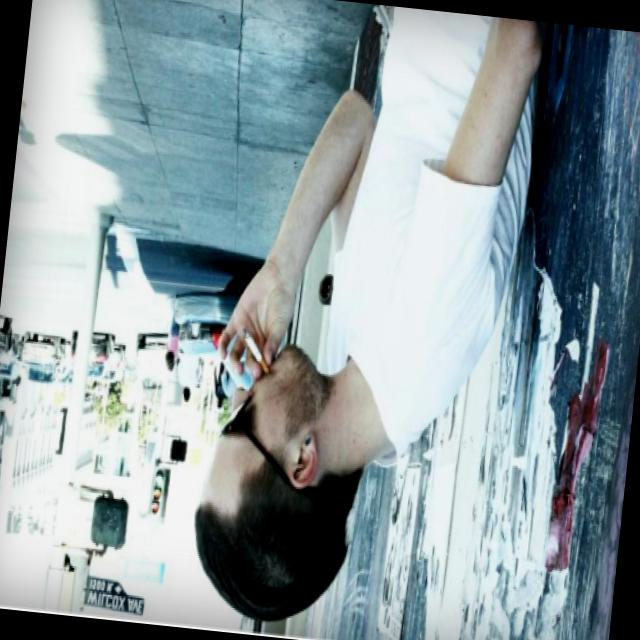cigarette: (232, 328, 278, 374)
